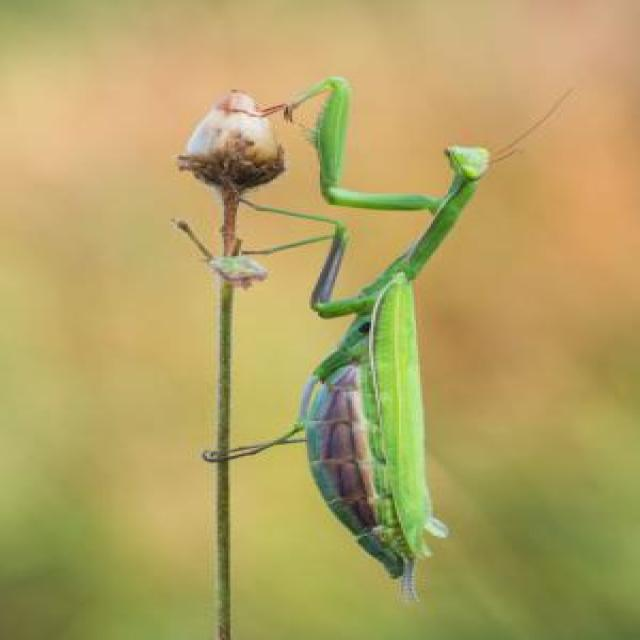antennae: (487, 91, 574, 156), (484, 153, 523, 164)
body: (307, 144, 494, 574)
insect: (201, 74, 582, 584)
legs: (254, 80, 440, 219), (202, 338, 368, 464), (231, 185, 383, 316), (235, 233, 367, 304), (212, 428, 308, 465)
mouthpart: (439, 141, 459, 165)
wings: (372, 271, 445, 564)
